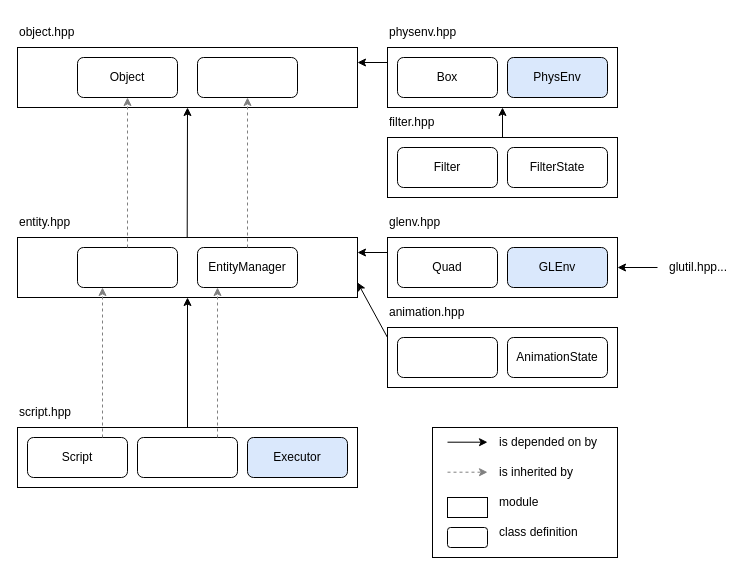
This 745x575 diagram has some shape labels left out. The shapes that lost their labels are listed below. From the top down, each one's centre as x and y in pixels, then its label:
At (x=247, y=77): "ObjectManager".
At (x=127, y=267): "Entity".
At (x=447, y=357): "Animation".
At (x=187, y=457): "ScriptManager".
